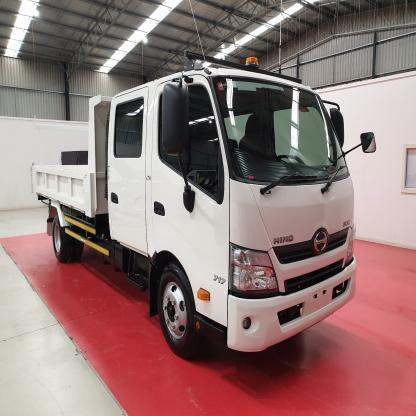dump_truck: (30, 67, 363, 364)
